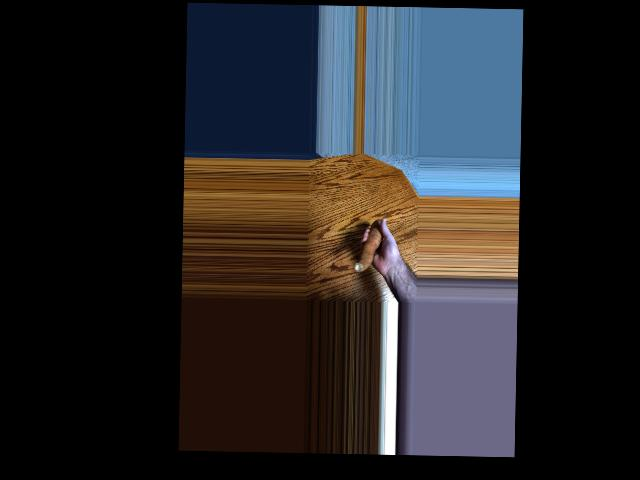sweet_potato: (355, 220, 384, 274)
